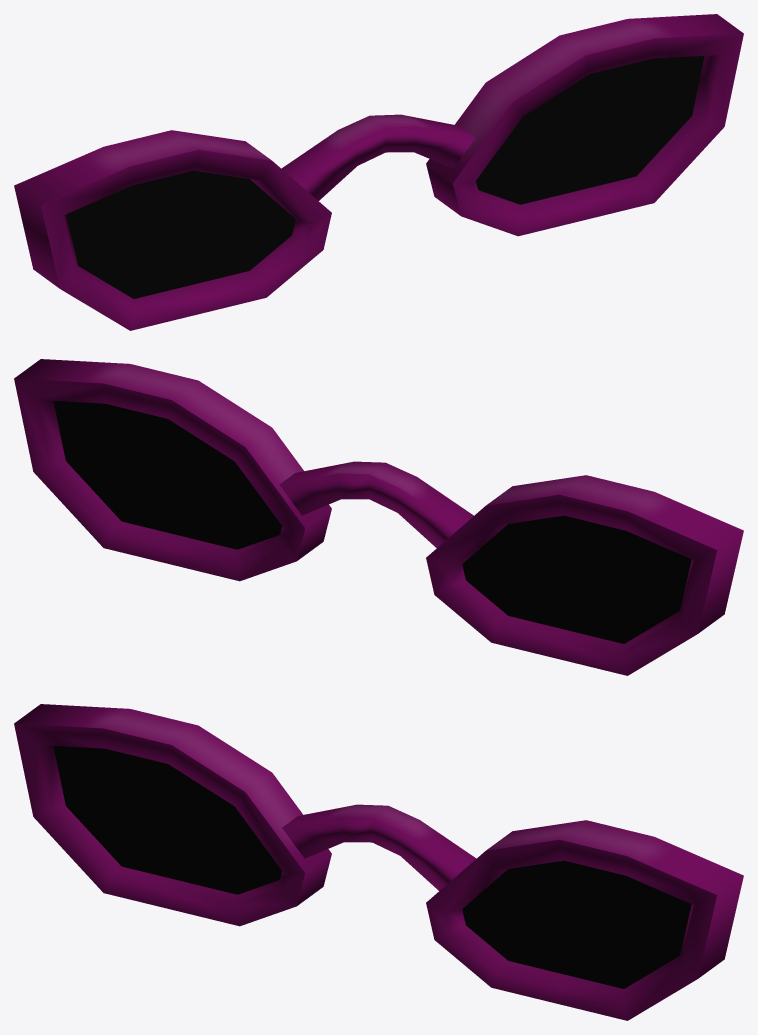
Rendered from Glasses_Femine.FBX.
3 views of the same model, one above another, from view 1: azimuth 30°, elevation 25°; view 2: azimuth 150°, elevation 25°; view 3: azimuth 330°, elevation 25° (orthographic).
Visible parts, largest first — view 1: Glasses_Femine, Glasses_Femine_Glasspart; view 2: Glasses_Femine, Glasses_Femine_Glasspart; view 3: Glasses_Femine, Glasses_Femine_Glasspart.
Part boxes in pixels (x1,y1,x2,y2): Glasses_Femine: (14,14,743,330); Glasses_Femine_Glasspart: (66,56,704,298); Glasses_Femine: (14,359,743,675); Glasses_Femine_Glasspart: (53,401,691,643); Glasses_Femine: (14,704,743,1020); Glasses_Femine_Glasspart: (53,746,691,988).
Bounding box in the file's own units: 147 × 32.86 × 9.68.
